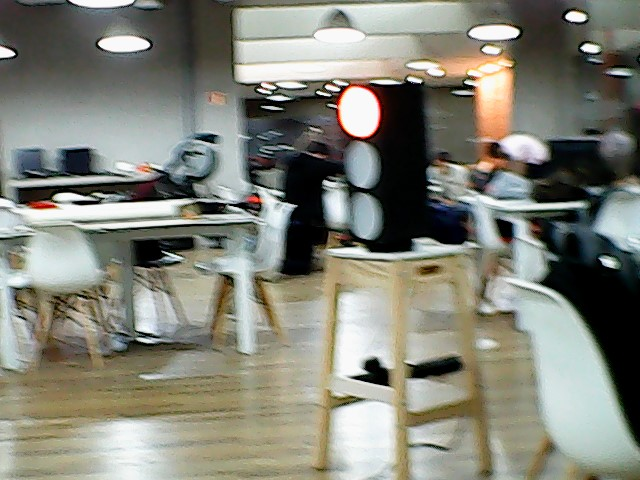vermelho: (332, 81, 433, 244)
